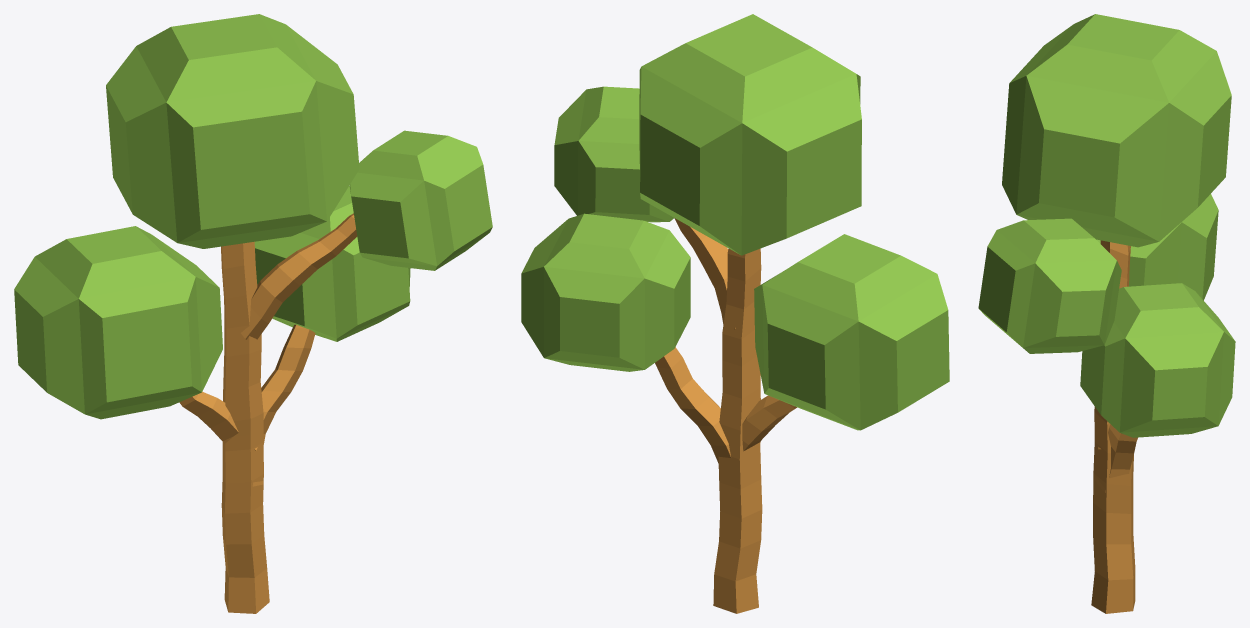
Rendered from tree2.glb.
3 views of the same model, side by side, from view 1: azimuth 30°, elevation 25°; view 2: azimuth 150°, elevation 25°; view 3: azimuth 270°, elevation 25° (orthographic).
Parts seen in each view (by area): view 1: tree2; view 2: tree2; view 3: tree2.
Part boxes in pixels (<box>): tree2: <box>14,14,492,613</box>; tree2: <box>521,14,949,613</box>; tree2: <box>978,14,1235,613</box>.
Size of the model in its own units: 0.3154 by 0.4154 by 0.1711.
